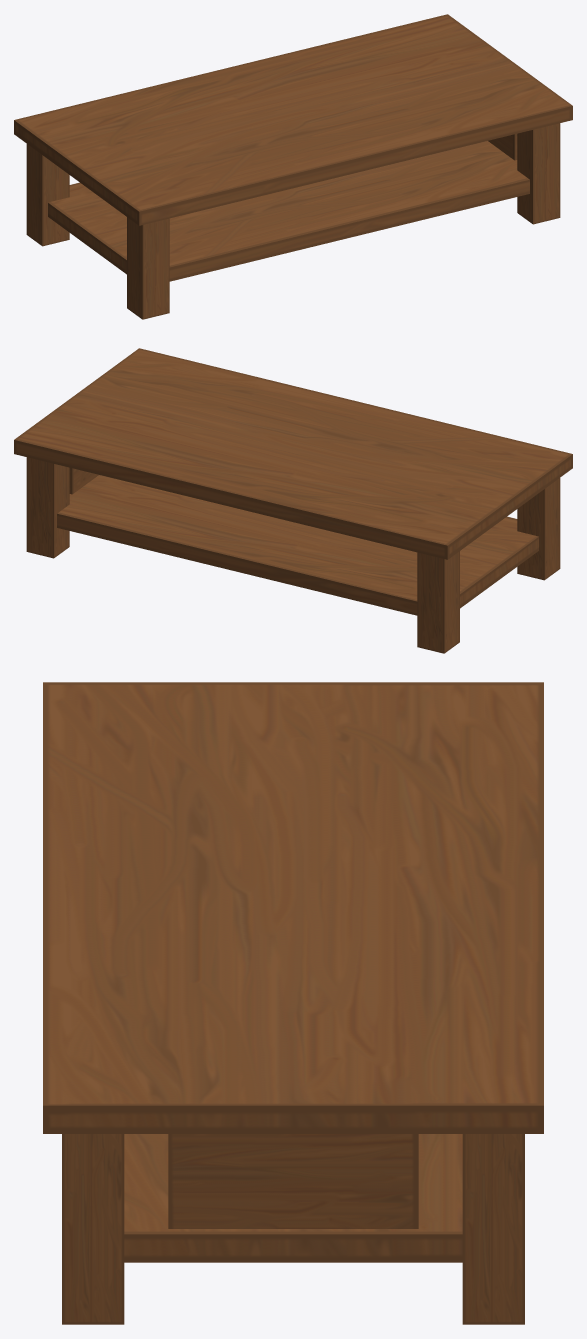
Rendered from Meja.fbx.
The picture shows the model from 3 angles, top to bottom: view 1: azimuth 30°, elevation 25°; view 2: azimuth 150°, elevation 25°; view 3: azimuth 270°, elevation 25°; orthographic projection. The views are drawn at different scales.
Visible parts, largest first — view 1: Meja.002, Meja.003, Meja.001, Meja.004; view 2: Meja.002, Meja.003, Meja.001, Meja.004; view 3: Meja.002, Meja.001, Meja.004, Meja.003.
Part boxes in pixels (<box>): Meja.002: <box>14,14,572,225</box>; Meja.003: <box>48,141,529,281</box>; Meja.001: <box>26,123,560,319</box>; Meja.004: <box>488,134,517,160</box>; Meja.002: <box>14,348,572,559</box>; Meja.003: <box>57,475,538,615</box>; Meja.001: <box>26,457,560,653</box>; Meja.004: <box>69,468,98,494</box>; Meja.002: <box>43,682,543,1133</box>; Meja.001: <box>62,1134,524,1324</box>; Meja.004: <box>168,1134,418,1228</box>; Meja.003: <box>124,1134,462,1262</box>.
Size of the model in its own units: 160 by 40 by 80.
Materials: 4 (4 with a texture image).
